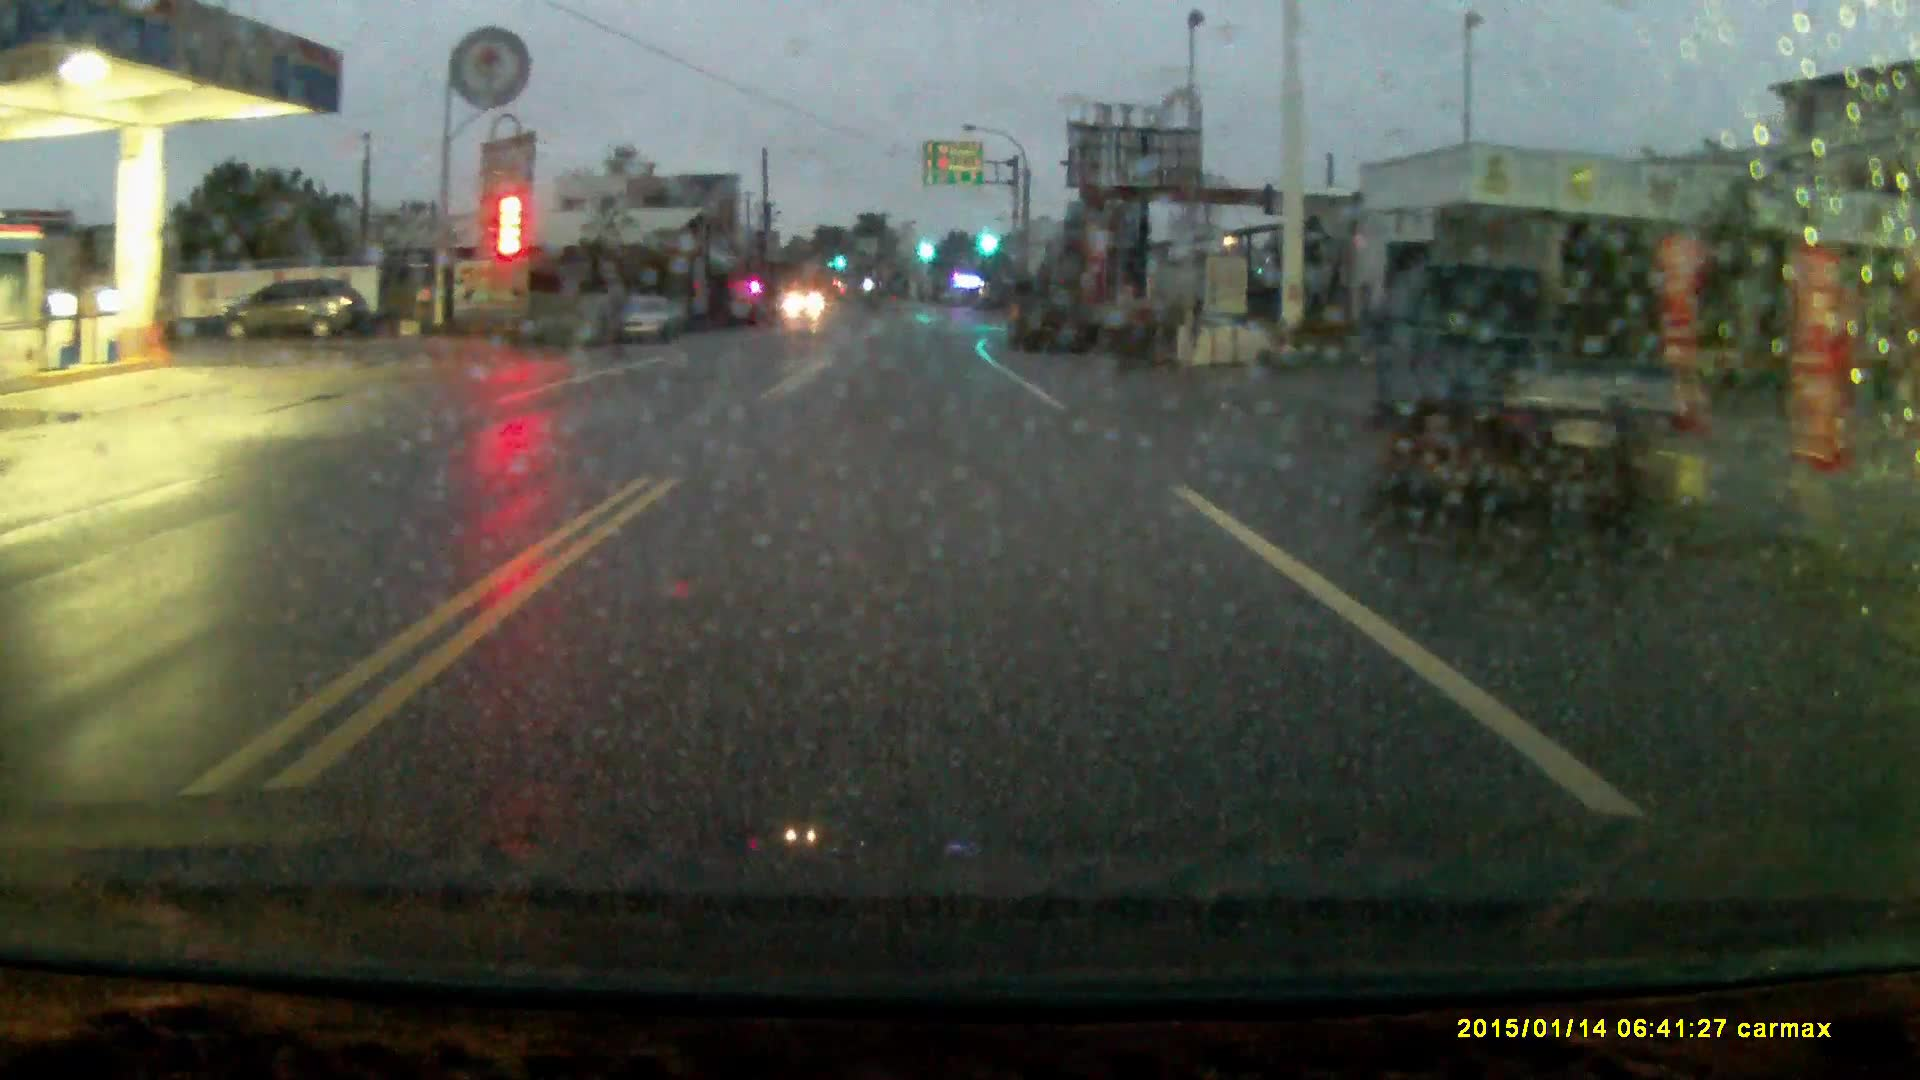rider: (604, 265, 657, 359)
vehicle: (1435, 266, 1651, 521), (216, 283, 369, 342), (1008, 270, 1101, 357), (609, 300, 696, 350)
